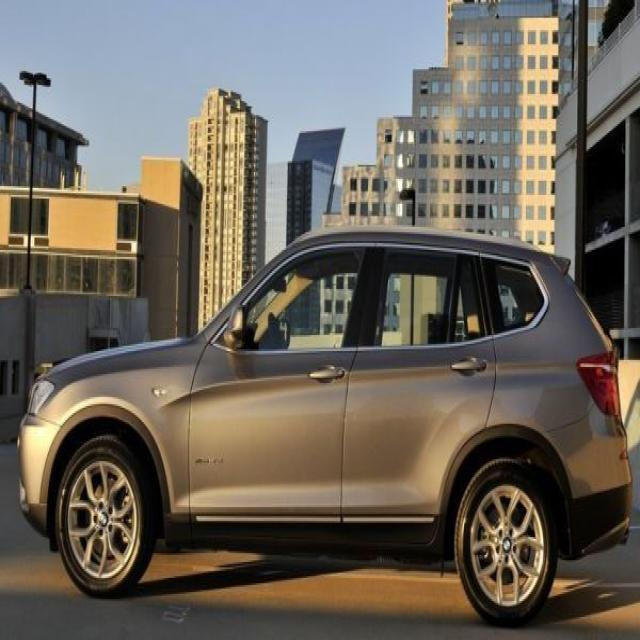Car: (1, 178, 640, 638)
